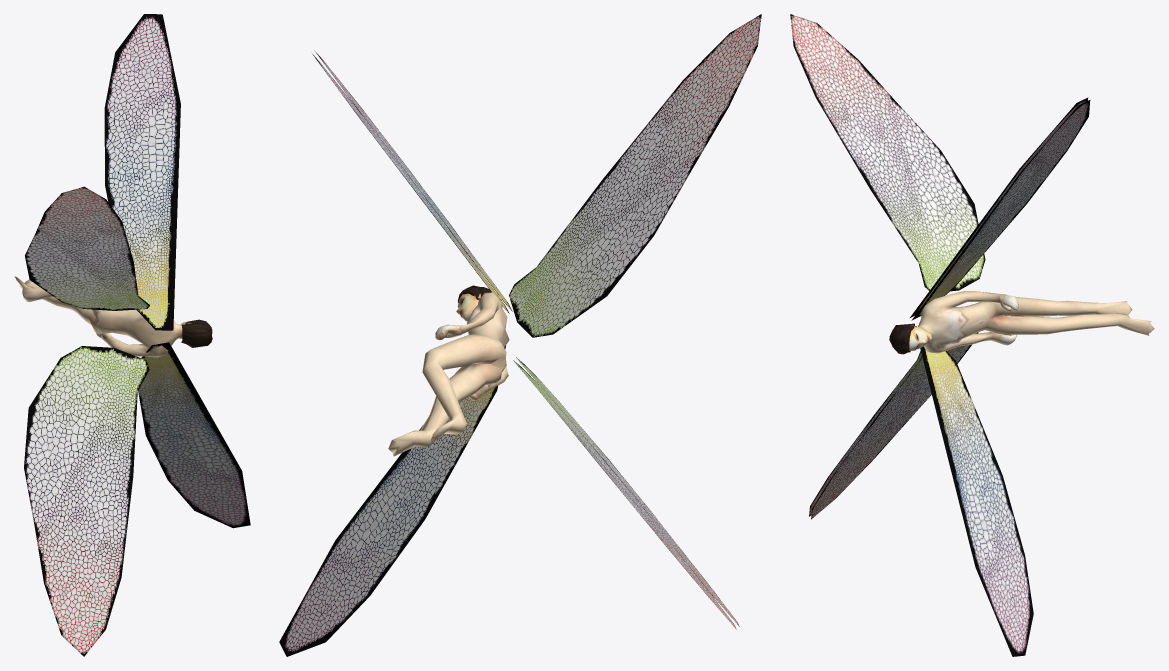
The model's file is angel_000035.obj.
The picture shows the model from 3 angles, left to right: view 1: azimuth 30°, elevation 25°; view 2: azimuth 150°, elevation 25°; view 3: azimuth 270°, elevation 25°; orthographic projection. The views are drawn at different scales.
Parts seen in each view (by area): view 1: Plane.001, Plane.003, Plane, Plane.002, body.001_omino.012, hair.003_omino.013; view 2: Plane.002, Plane, body.001_omino.012, Plane.001, Plane.003; view 3: Plane.002, Plane, body.001_omino.012, Plane.003, Plane.001, hair.003_omino.013.
Boxes of the visible parts, box(x1,y1,x2,y2) form: Plane.001: box(24, 346, 149, 656); Plane.003: box(104, 14, 180, 330); Plane: box(138, 342, 250, 528); Plane.002: box(25, 186, 149, 310); body.001_omino.012: box(14, 276, 191, 357); hair.003_omino.013: box(181, 319, 212, 347); Plane.002: box(509, 14, 761, 337); Plane: box(279, 345, 505, 656); body.001_omino.012: box(388, 292, 509, 456); Plane.001: box(513, 357, 739, 629); Plane.003: box(312, 50, 512, 313); Plane.002: box(790, 14, 985, 291); Plane: box(920, 346, 1033, 656); body.001_omino.012: box(902, 291, 1154, 353); Plane.003: box(910, 97, 1090, 320); Plane.001: box(809, 332, 978, 519); hair.003_omino.013: box(889, 323, 916, 354).
Bounding box in the file's own units: 3.5 × 6.01 × 3.75.
